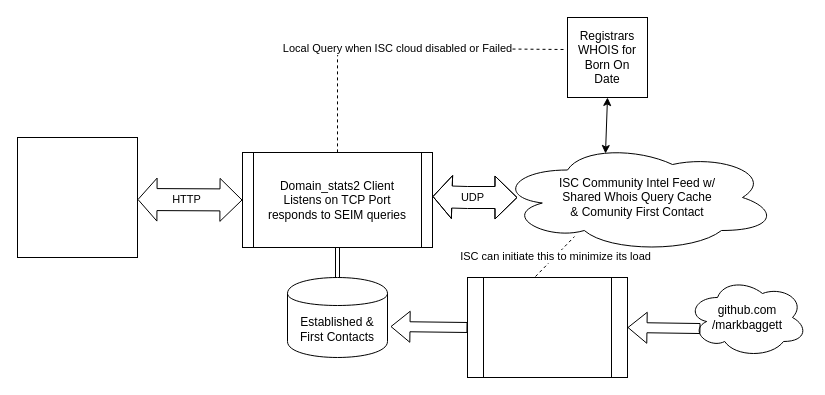
Some shapes in this 825 by 395 pixel diagram are drawn without their labels. The centre of each missing label's shape, as x and y in pixels:
database_admin.py pulls updates to established database to client: the point at 547,327
Internal SEIM SecurityOnion SofElk: the point at 77,197
